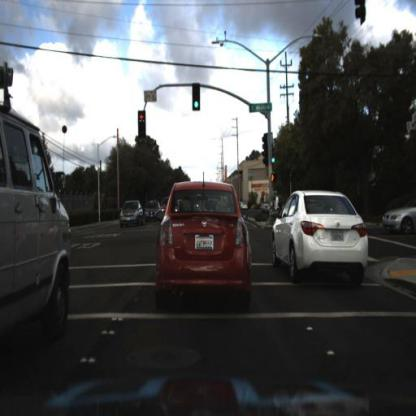biker: (267, 192, 289, 228)
car: (1, 67, 74, 348), (159, 181, 253, 306), (271, 187, 372, 286), (384, 186, 416, 245), (383, 200, 416, 238), (120, 199, 144, 230), (142, 199, 164, 226)
trafficLight: (193, 84, 203, 114), (271, 147, 279, 168)
trafficLight-RedLeft: (140, 111, 148, 140)
truck: (3, 75, 75, 330)
